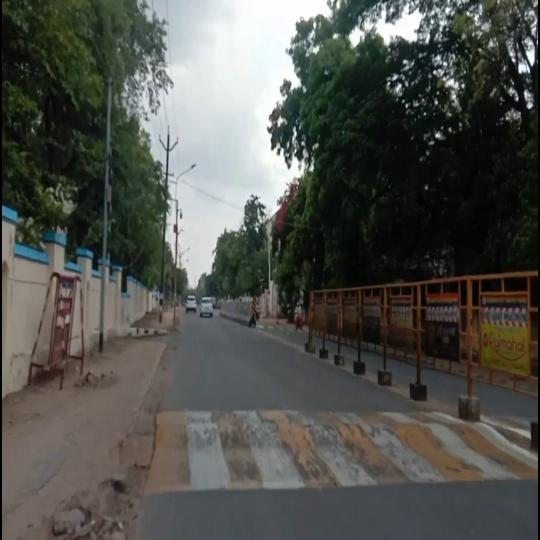Speed Bump: (144, 407, 537, 515)
